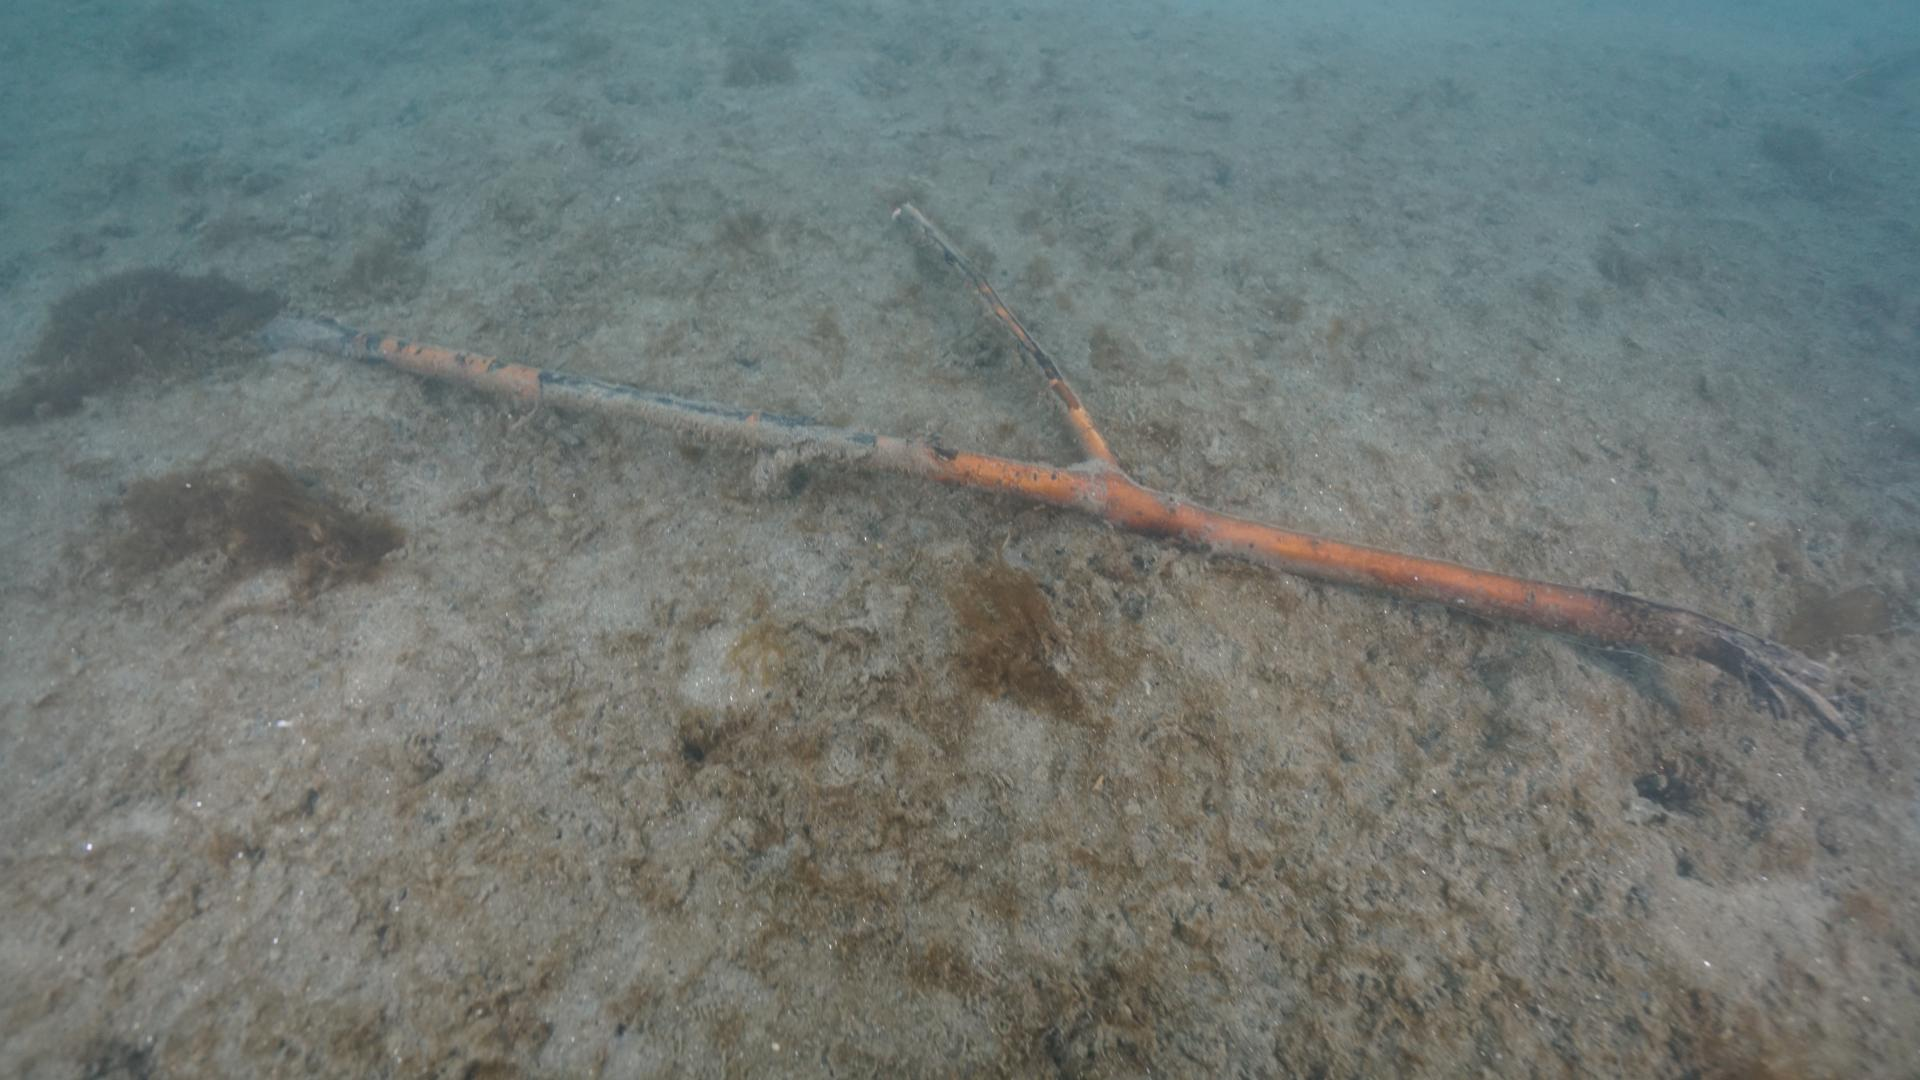wood: (255, 198, 1869, 746)
